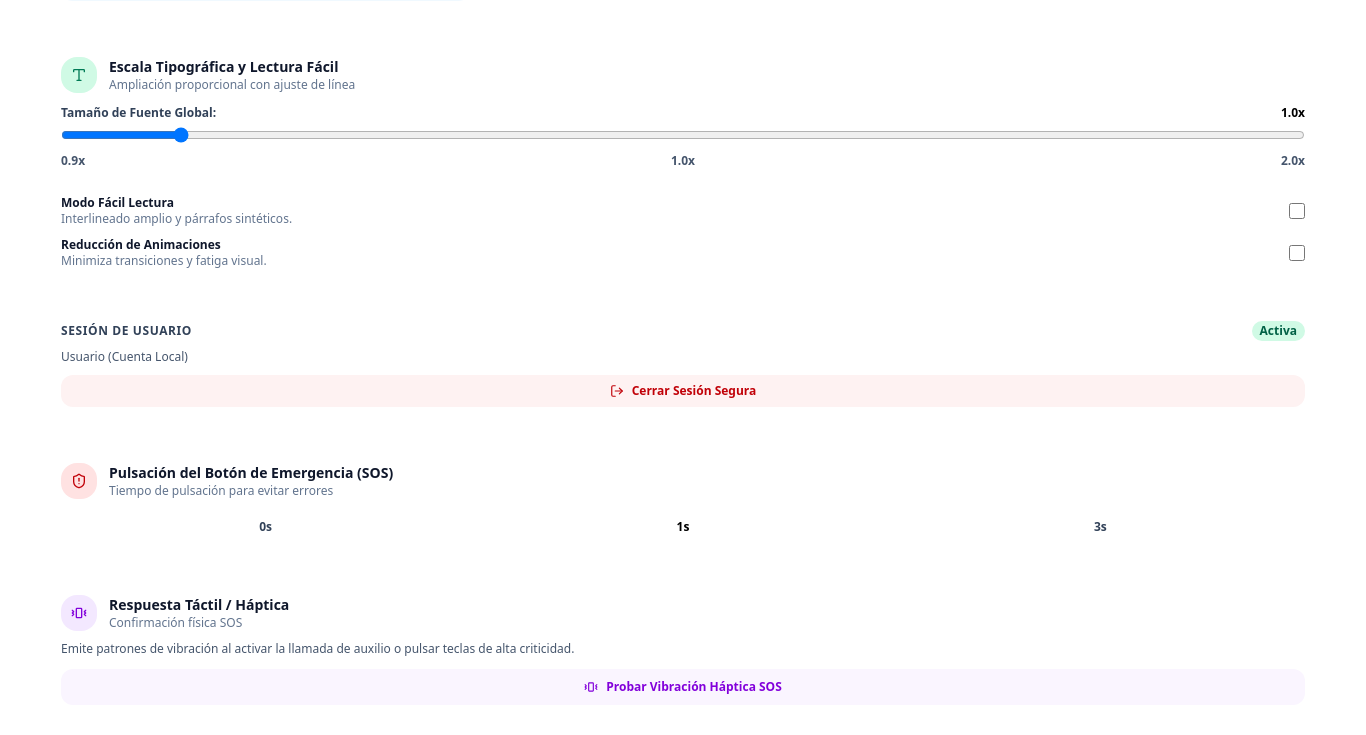
Test: UI/UX Enhancements — Excelencia Visual y Microinteracciones Accesibles › Ajustes Page UI/UX › renders settings sections: theme, font scale, easy read and language
(page scrolled)
Expected: the heading "Escala Tipográfica y Lectura Fácil" is shown, [109, 57, 355, 77]
Expected: the heading "Pulsación del Botón de Emergencia (SOS)" is shown, [109, 463, 393, 483]
# Probar botón de prueba háptica
Click the button "Probar Vibración Háptica SOS" at (683, 687), box [61, 669, 1305, 705]
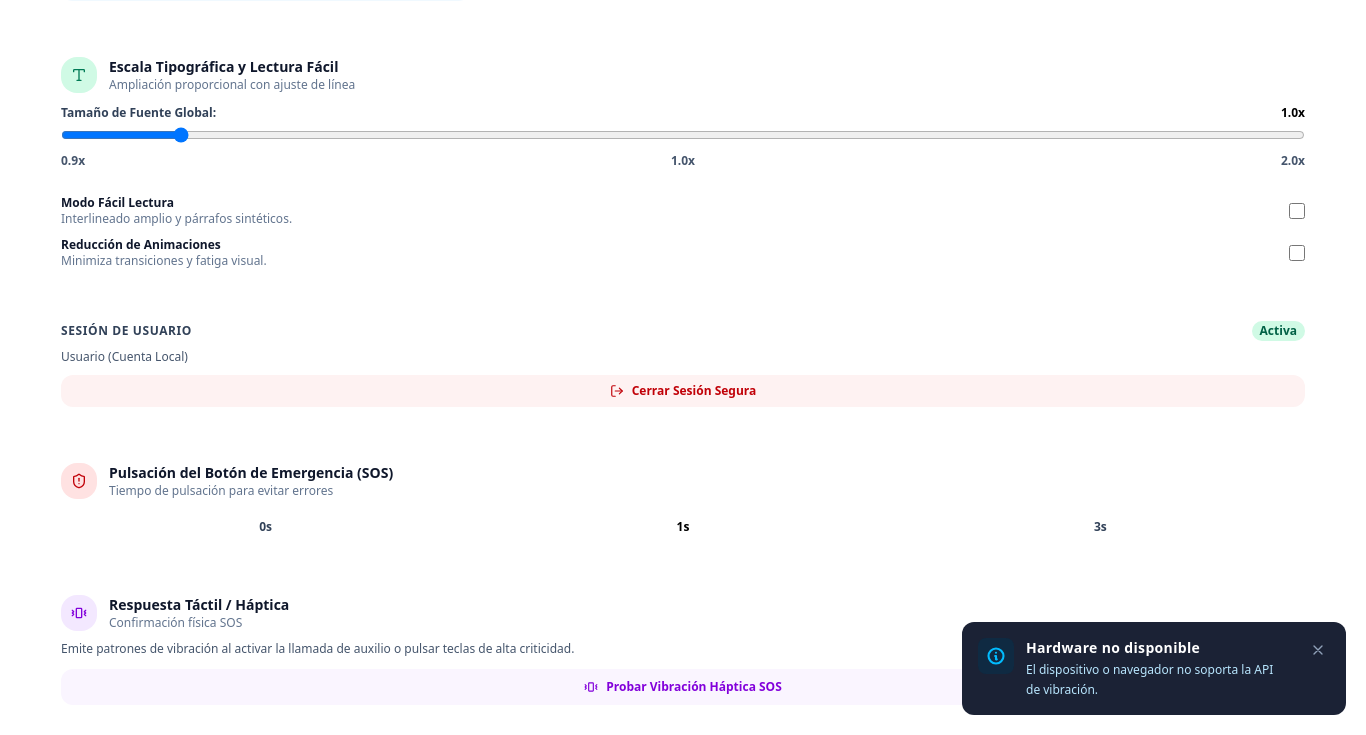
Now the message is shown, box [962, 622, 1346, 715]
